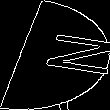N_W: (8, 30, 102, 80)
